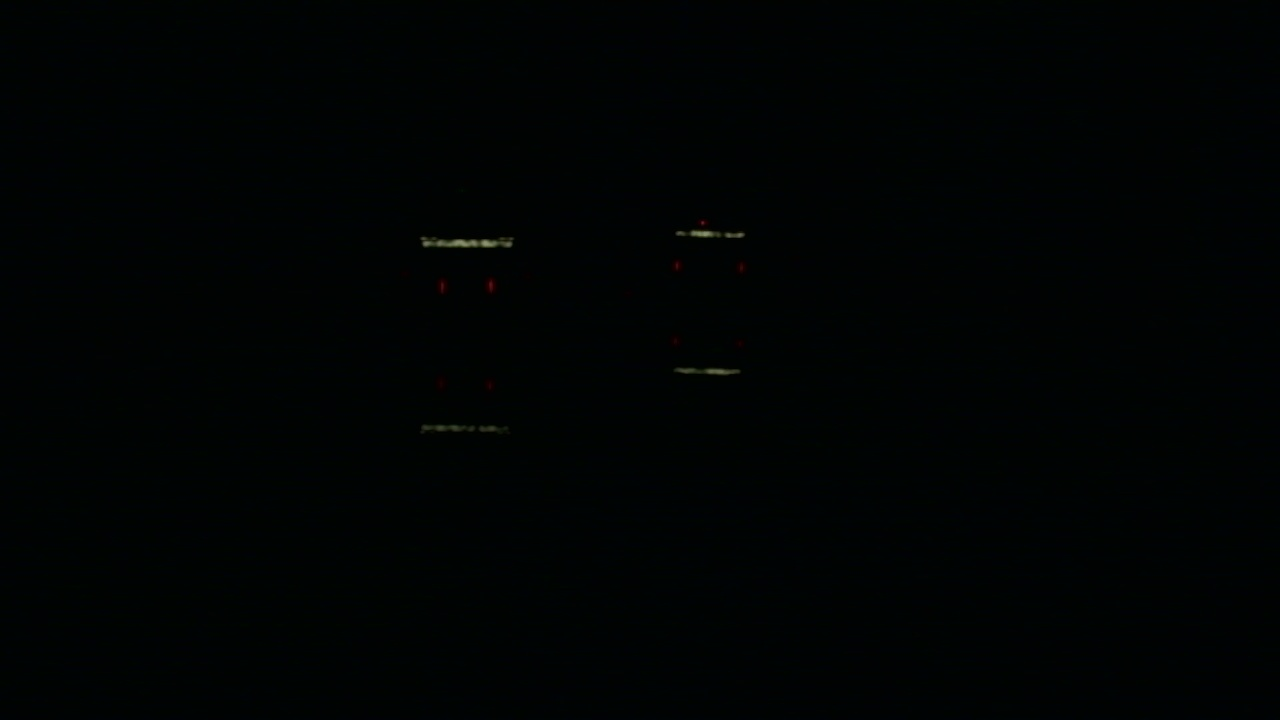lamp: (434, 275, 442, 295), (737, 256, 743, 276), (672, 255, 677, 275), (488, 277, 493, 294)
pair1: (437, 279, 494, 294)
pair2: (673, 257, 743, 276)
